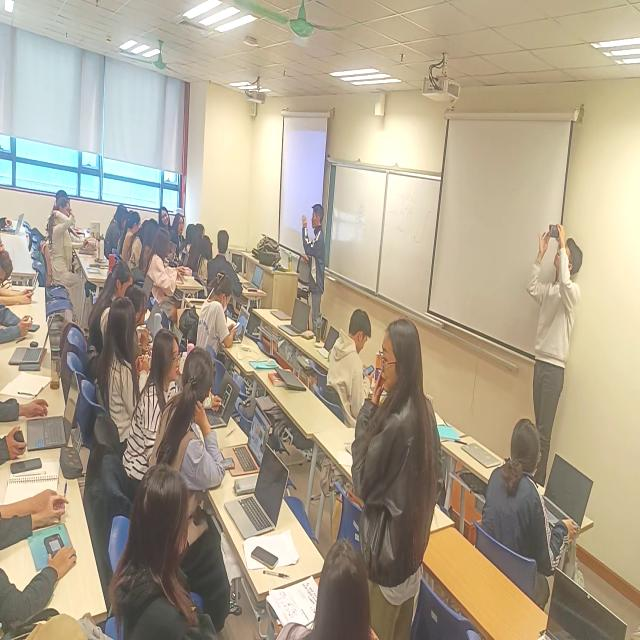raise_head: (107, 459, 231, 640), (137, 341, 227, 541), (272, 533, 374, 640), (93, 290, 154, 444), (104, 281, 152, 386), (194, 232, 218, 281)
read: (148, 223, 190, 314)
stand: (347, 315, 451, 640), (504, 208, 592, 504), (297, 197, 334, 350)
using_computer: (469, 407, 599, 602), (84, 261, 137, 362), (1, 206, 27, 239)
using_phone: (319, 298, 386, 428), (186, 272, 243, 385), (1, 264, 42, 309)
